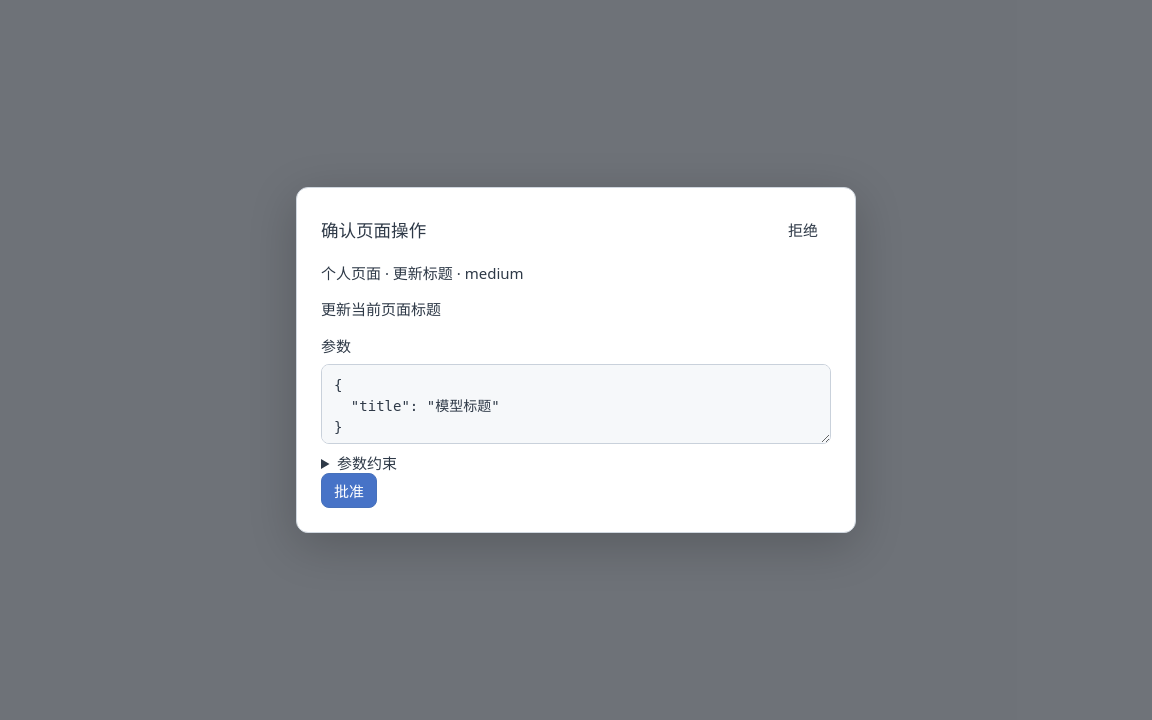
Scenario: 拒绝不提交修改参数，未知结果禁止重复批准
The image size is (1152, 720).
Click the button "拒绝" at (803, 230), box [775,212,831,247]
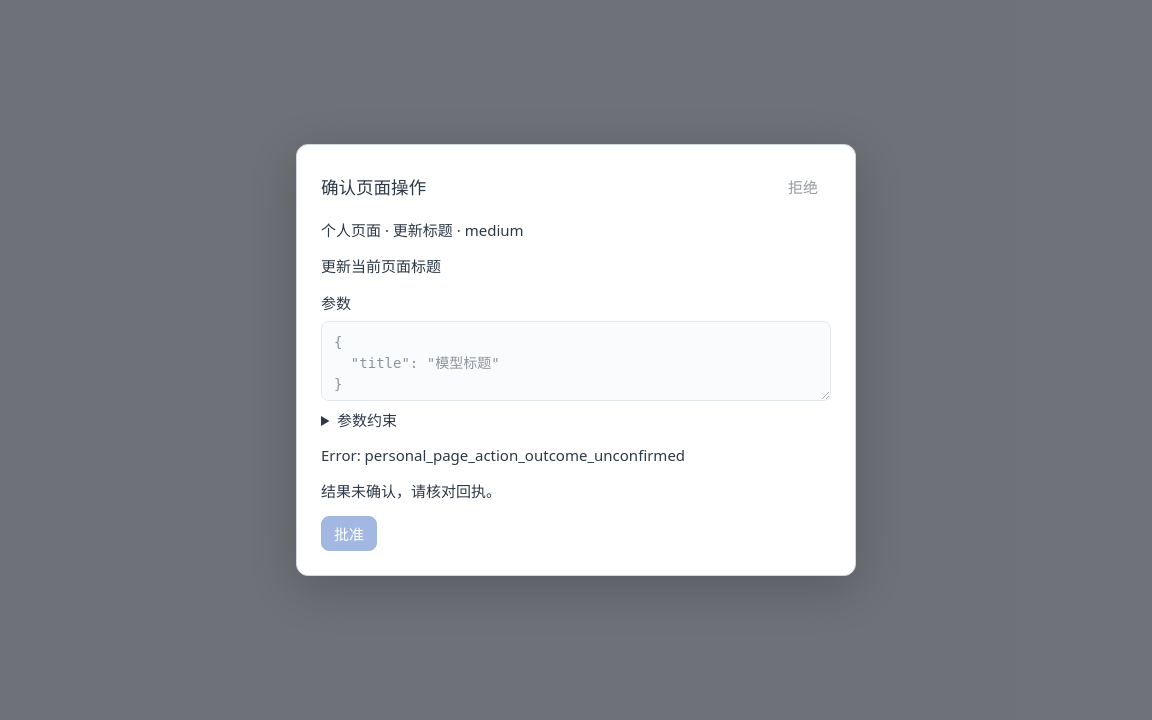
Expected: the text "结果未确认，请核对回执。" is shown, [321,481,501,501]
Expected: the button "批准" is disabled, [321,516,377,551]
Expected: the button "拒绝" is disabled, [775,169,831,204]
